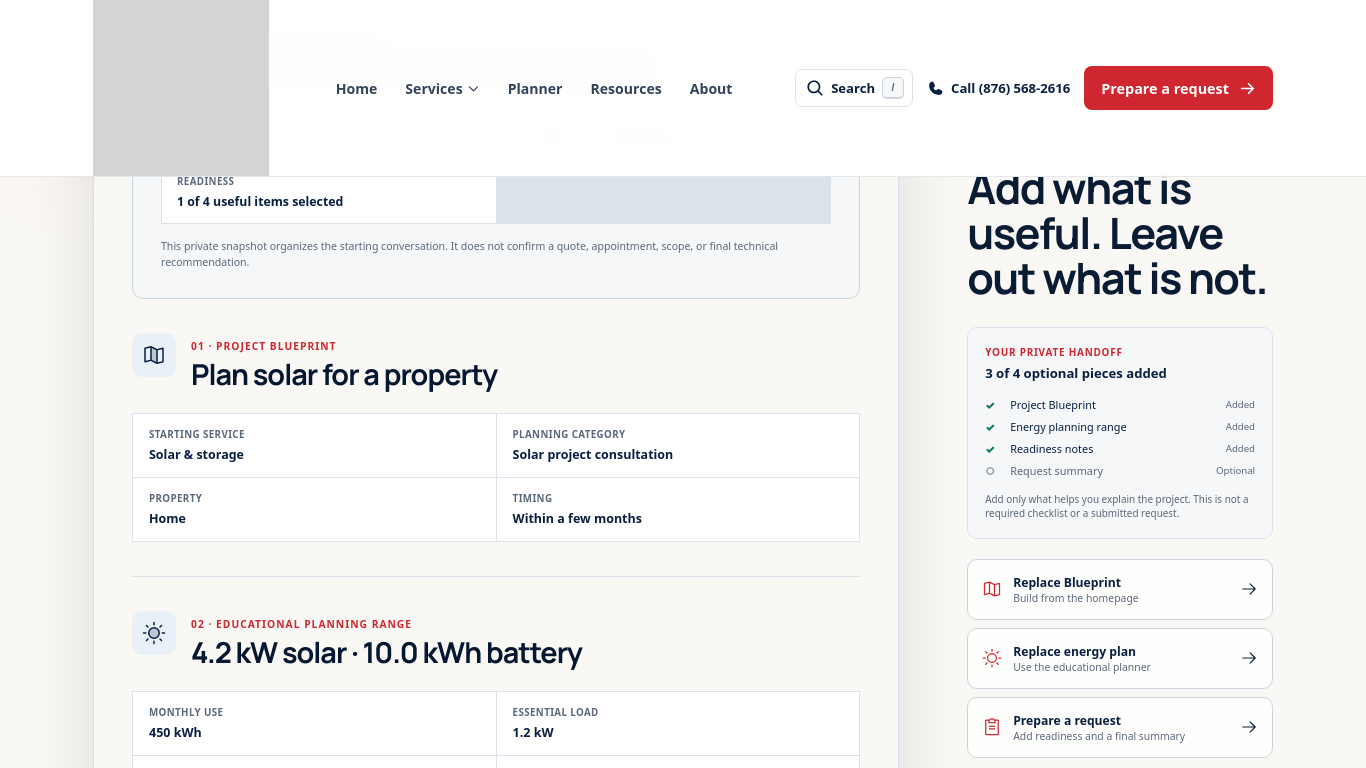
Test: Matken customer journeys › carries non-contact Blueprint and planning details from Project Pack into a request
(page scrolled)
Click the link "Prepare a request Add readiness and a final summary" at (1120, 727), box [967,696,1273,758]
(page scrolled)
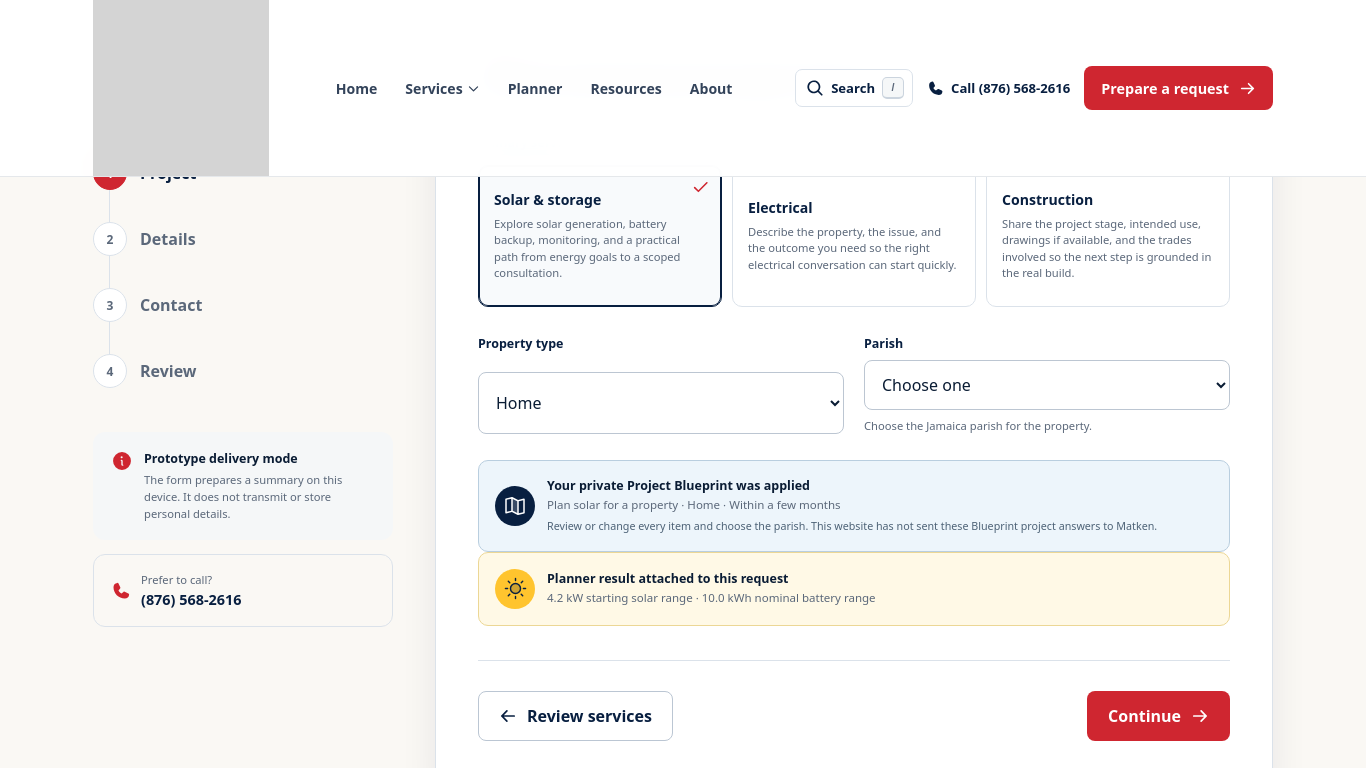
Check: the text "Your private Project Blueprint was applied" is shown, box [547,477,810,494]
Check: the dropdown labelled "Property type" shows "Home", box [478,372,844,434]
Check: the text "Planner result attached to this request" is shown, box [547,570,788,587]
Select "Saint James" in the dropdown labelled "Parish" at (1047, 384), box [864,360,1230,410]
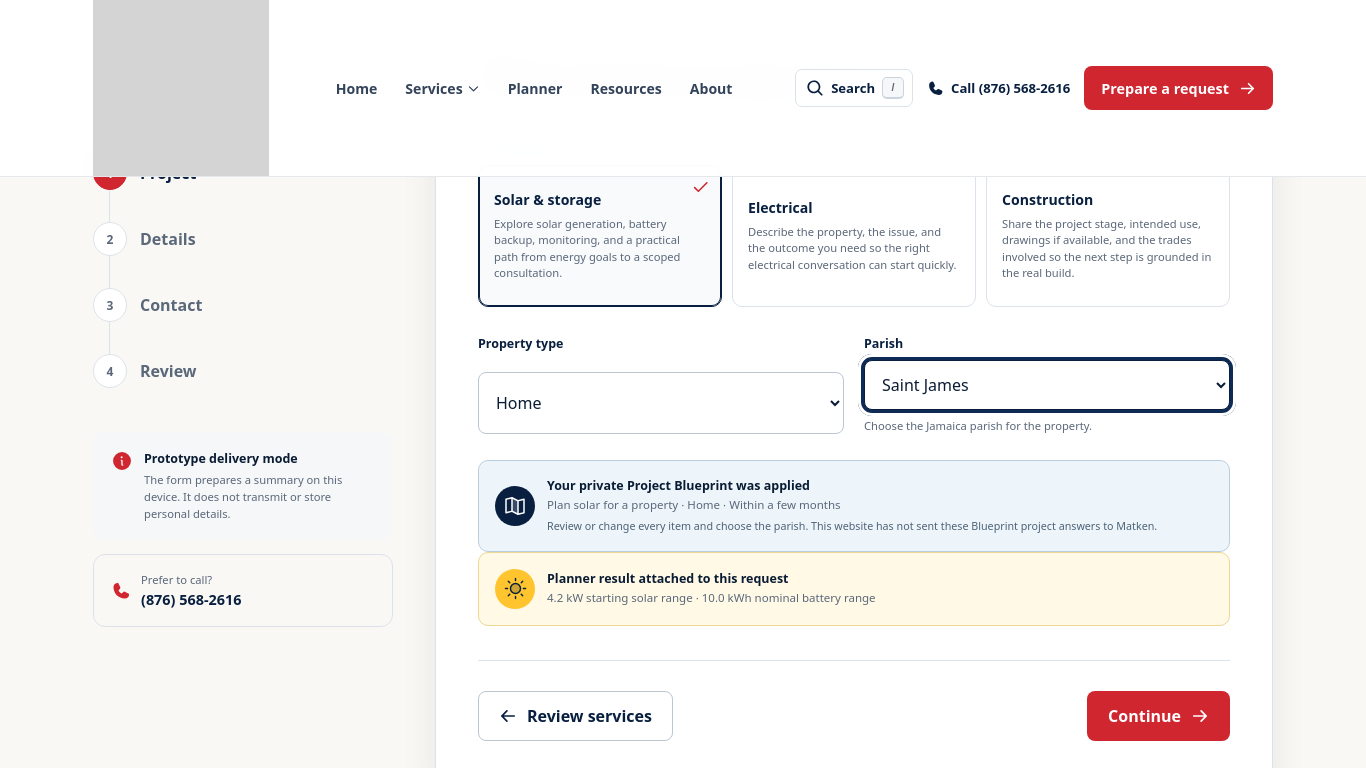
Click the button "Continue" at (1159, 716), box [1087,690,1230,740]
(page scrolled)
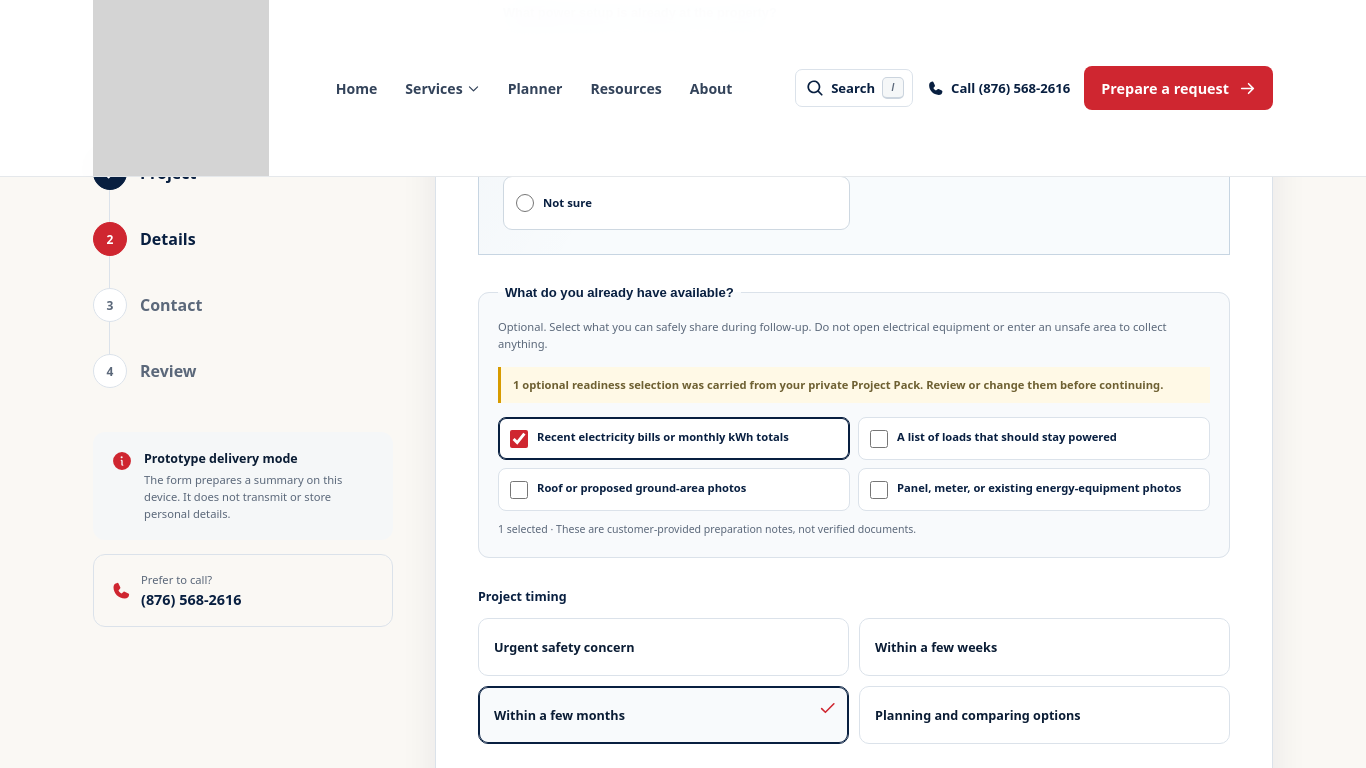
Check: the checkbox labelled "Recent electricity bills or monthly kWh totals" is checked, box [510,430,528,448]
